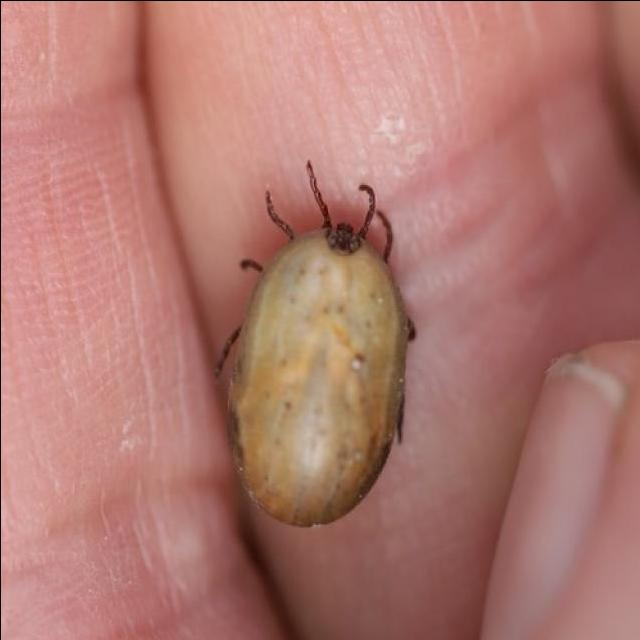Dermacentor Reticulatus-F-Fed: (215, 159, 416, 526)
